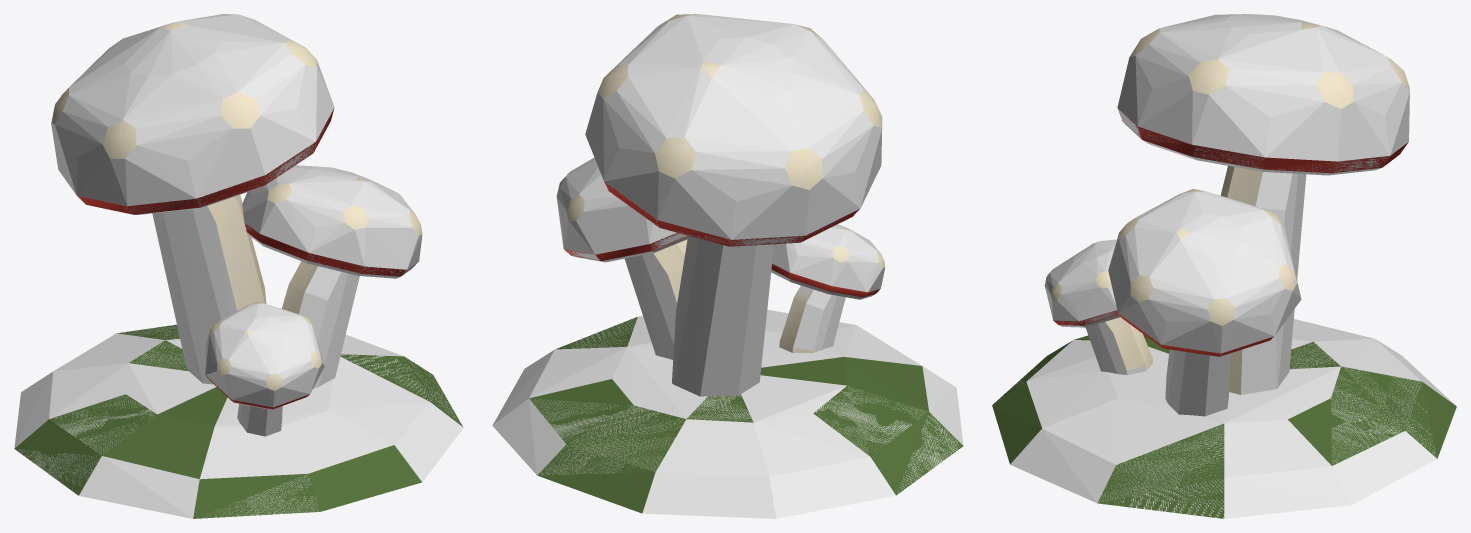
Rendered from mushroom_cluster.glb.
3 views of the same model, side by side, from view 1: azimuth 30°, elevation 25°; view 2: azimuth 150°, elevation 25°; view 3: azimuth 270°, elevation 25° (orthographic). The views are drawn at different scales.
Parts seen in each view (by area): view 1: COL_mushroom_cluster_02, COL_mushroom_cluster_00, mound, COL_mushroom_cluster_04, COL_mushroom_cluster_01, COL_mushroom_cluster_06, big_cap, COL_mushroom_cluster_03, big_stem, mid_cap, COL_mushroom_cluster_05, small_cap (+1 smaller); view 2: COL_mushroom_cluster_02, COL_mushroom_cluster_00, mound, COL_mushroom_cluster_01, COL_mushroom_cluster_04, big_cap, COL_mushroom_cluster_06, COL_mushroom_cluster_03, COL_mushroom_cluster_05, mid_cap, small_cap, small_stem (+1 smaller); view 3: COL_mushroom_cluster_00, COL_mushroom_cluster_02, COL_mushroom_cluster_04, mound, big_cap, COL_mushroom_cluster_01, COL_mushroom_cluster_06, COL_mushroom_cluster_03, mid_cap, big_stem, COL_mushroom_cluster_05, small_stem (+1 smaller).
Part boxes in pixels (bbox=[...]): COL_mushroom_cluster_02: bbox=[51, 14, 334, 214]; COL_mushroom_cluster_00: bbox=[14, 324, 463, 518]; mound: bbox=[14, 324, 463, 518]; COL_mushroom_cluster_04: bbox=[242, 165, 422, 278]; COL_mushroom_cluster_01: bbox=[152, 195, 265, 384]; COL_mushroom_cluster_06: bbox=[205, 302, 324, 409]; big_cap: bbox=[51, 22, 334, 214]; COL_mushroom_cluster_03: bbox=[283, 262, 359, 388]; big_stem: bbox=[207, 195, 266, 311]; mid_cap: bbox=[244, 177, 422, 276]; COL_mushroom_cluster_05: bbox=[237, 404, 282, 436]; small_cap: bbox=[205, 302, 321, 409]; COL_mushroom_cluster_02: bbox=[585, 14, 882, 246]; COL_mushroom_cluster_00: bbox=[492, 309, 963, 518]; mound: bbox=[529, 317, 963, 513]; COL_mushroom_cluster_01: bbox=[672, 235, 773, 396]; COL_mushroom_cluster_04: bbox=[556, 157, 687, 262]; big_cap: bbox=[597, 14, 882, 246]; COL_mushroom_cluster_06: bbox=[771, 224, 884, 299]; COL_mushroom_cluster_03: bbox=[624, 241, 686, 359]; COL_mushroom_cluster_05: bbox=[780, 286, 845, 352]; mid_cap: bbox=[557, 174, 687, 261]; small_cap: bbox=[771, 227, 885, 297]; small_stem: bbox=[779, 285, 813, 352]; COL_mushroom_cluster_00: bbox=[997, 319, 1455, 518]; COL_mushroom_cluster_02: bbox=[1117, 14, 1409, 175]; COL_mushroom_cluster_04: bbox=[1108, 189, 1301, 355]; mound: bbox=[992, 334, 1456, 518]; big_cap: bbox=[1118, 22, 1409, 173]; COL_mushroom_cluster_01: bbox=[1221, 167, 1306, 394]; COL_mushroom_cluster_06: bbox=[1044, 239, 1120, 327]; COL_mushroom_cluster_03: bbox=[1165, 349, 1230, 416]; mid_cap: bbox=[1118, 189, 1296, 356]; big_stem: bbox=[1221, 166, 1276, 394]; COL_mushroom_cluster_05: bbox=[1085, 318, 1151, 374]; small_stem: bbox=[1105, 317, 1152, 370].
Bounding box in the file's own units: 0.4706 × 0.4374 × 0.4747.
